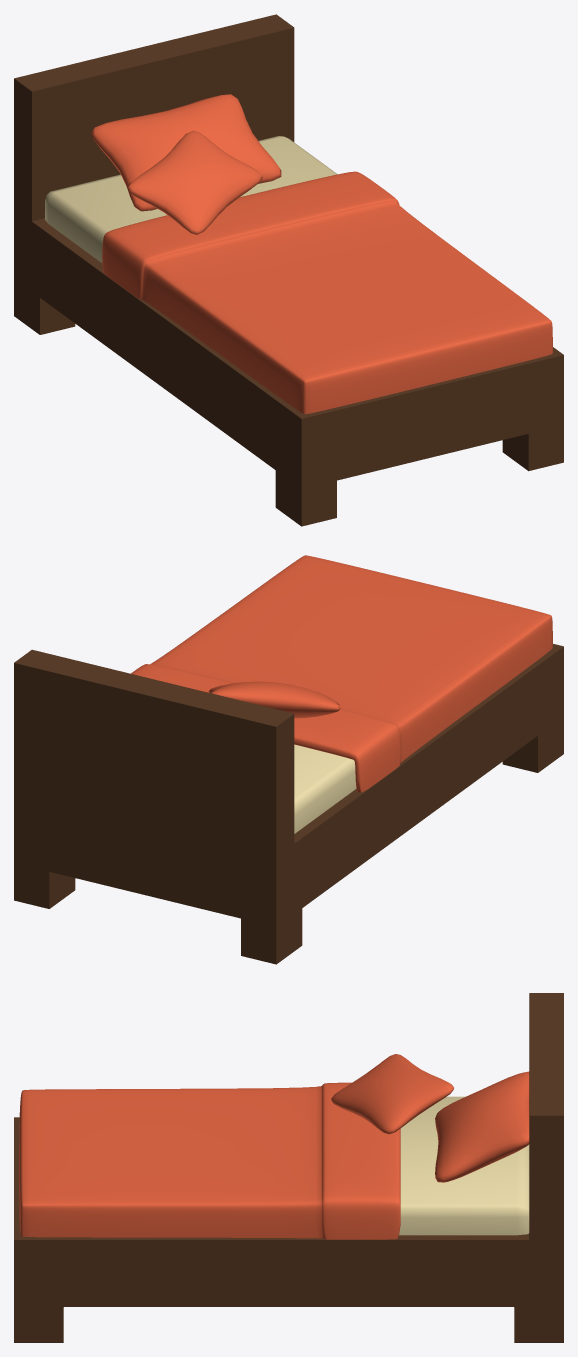
The model's file is cama (1).fbx.
3 renders of one model, top to bottom at view 1: azimuth 30°, elevation 25°; view 2: azimuth 150°, elevation 25°; view 3: azimuth 270°, elevation 25°, orthographic. The views are drawn at different scales.
Parts seen in each view (by area): view 1: patas, sabana, Cube, Cube.001, cama; view 2: patas, sabana, cama, Cube.001; view 3: sabana, patas, cama, Cube, Cube.001.
Boxes of the visible parts, left/top/right/bottom form: patas: left=14, top=14, right=563, bottom=526; sabana: left=102, top=171, right=552, bottom=414; Cube: left=91, top=94, right=281, bottom=211; Cube.001: left=127, top=130, right=262, bottom=234; cama: left=45, top=136, right=337, bottom=262; patas: left=14, top=644, right=563, bottom=964; sabana: left=131, top=555, right=552, bottom=792; cama: left=294, top=744, right=356, bottom=833; Cube.001: left=208, top=681, right=340, bottom=718; sabana: left=19, top=1082, right=400, bottom=1239; patas: left=14, top=993, right=563, bottom=1342; cama: left=399, top=1096, right=529, bottom=1235; Cube: left=435, top=1071, right=529, bottom=1182; Cube.001: left=331, top=1054, right=453, bottom=1134.
Size of the model in its own units: 142 by 123 by 269.
